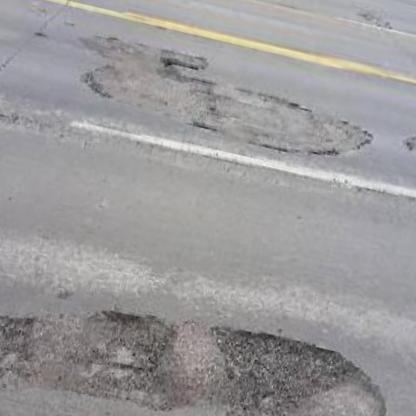pothole: (193, 320, 370, 416), (75, 294, 182, 403), (0, 296, 44, 389), (156, 49, 182, 77)
